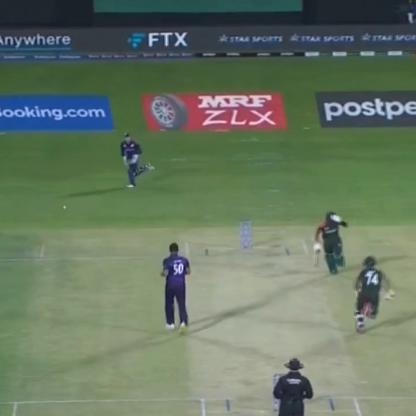ball: (59, 203, 67, 214)
bat: (302, 234, 326, 277)
pitch: (171, 239, 370, 416)
